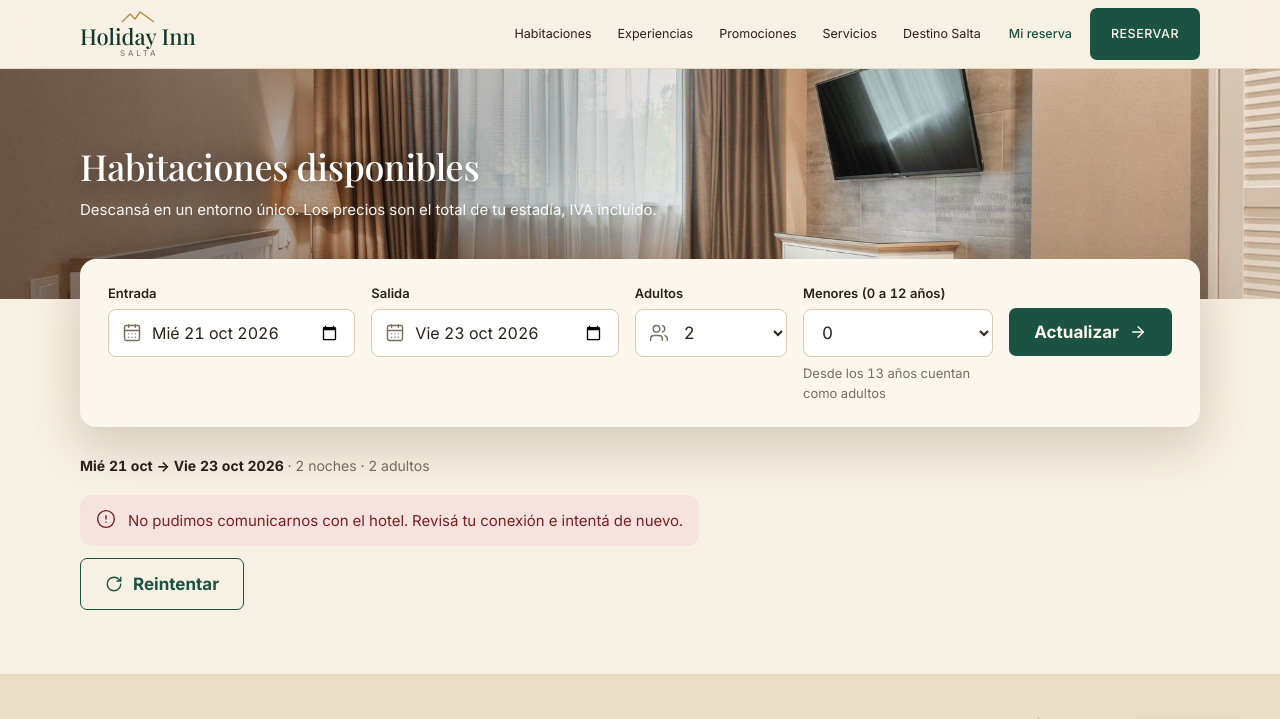
Scenario: Resultados › error de red: 'Reintentar' repite la misma búsqueda
Click the button "Reintentar".
click(162, 584)  # box [80,558,244,610]
(page scrolled)
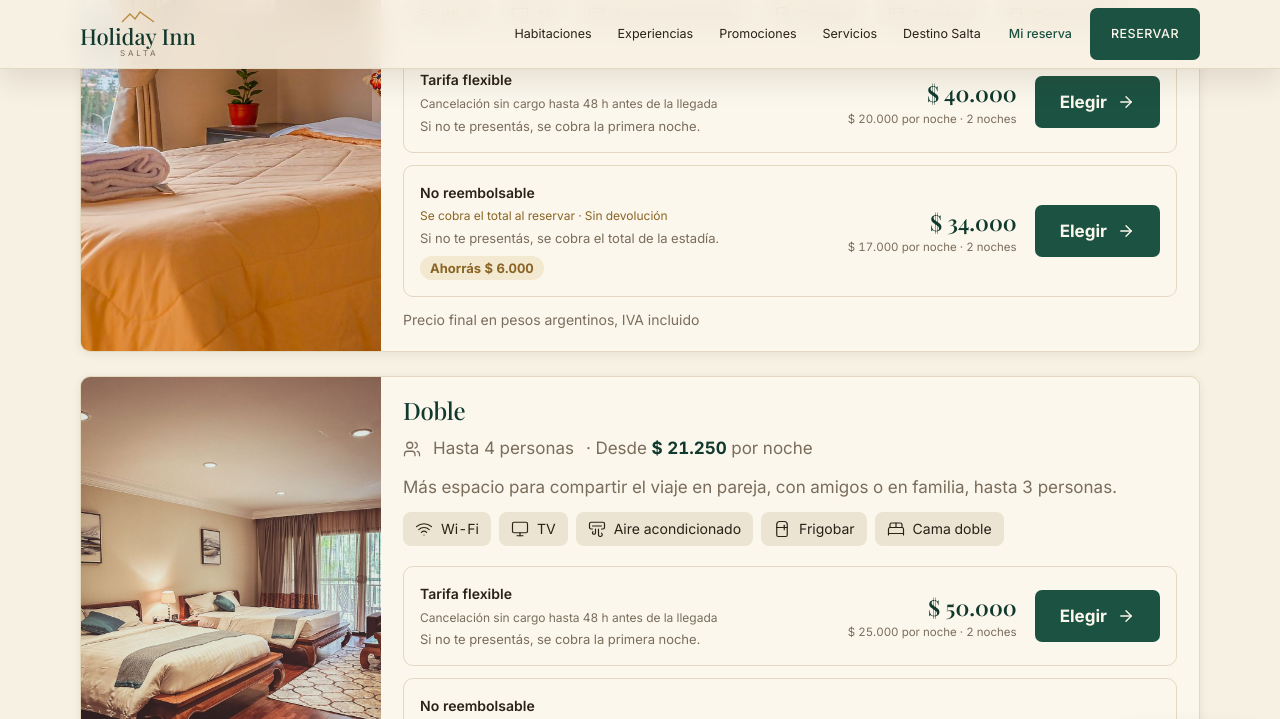
Check: the heading "Doble" is shown, box [403,397,465,424]
